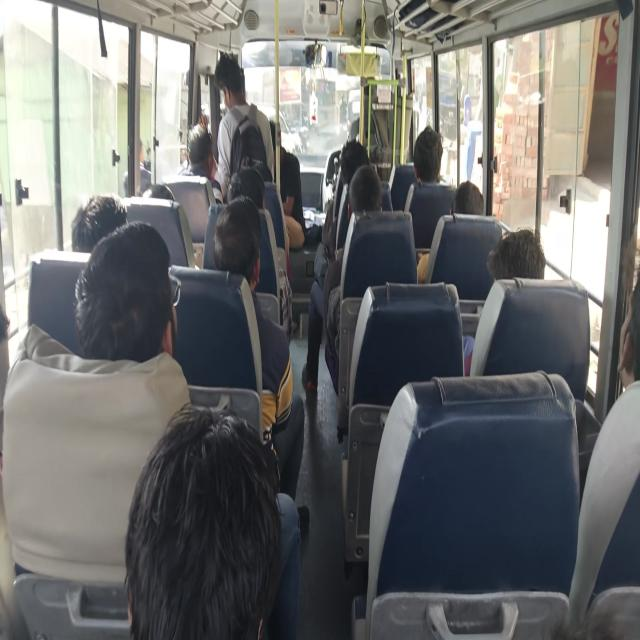person: (153, 404, 281, 640), (90, 231, 204, 423), (581, 260, 640, 452), (253, 105, 310, 256), (484, 226, 559, 323), (39, 206, 118, 266), (221, 204, 268, 296), (444, 172, 496, 230), (356, 174, 394, 233), (219, 57, 258, 110), (225, 160, 271, 202), (133, 188, 176, 225), (342, 145, 374, 194), (410, 121, 438, 168), (191, 130, 217, 172)
